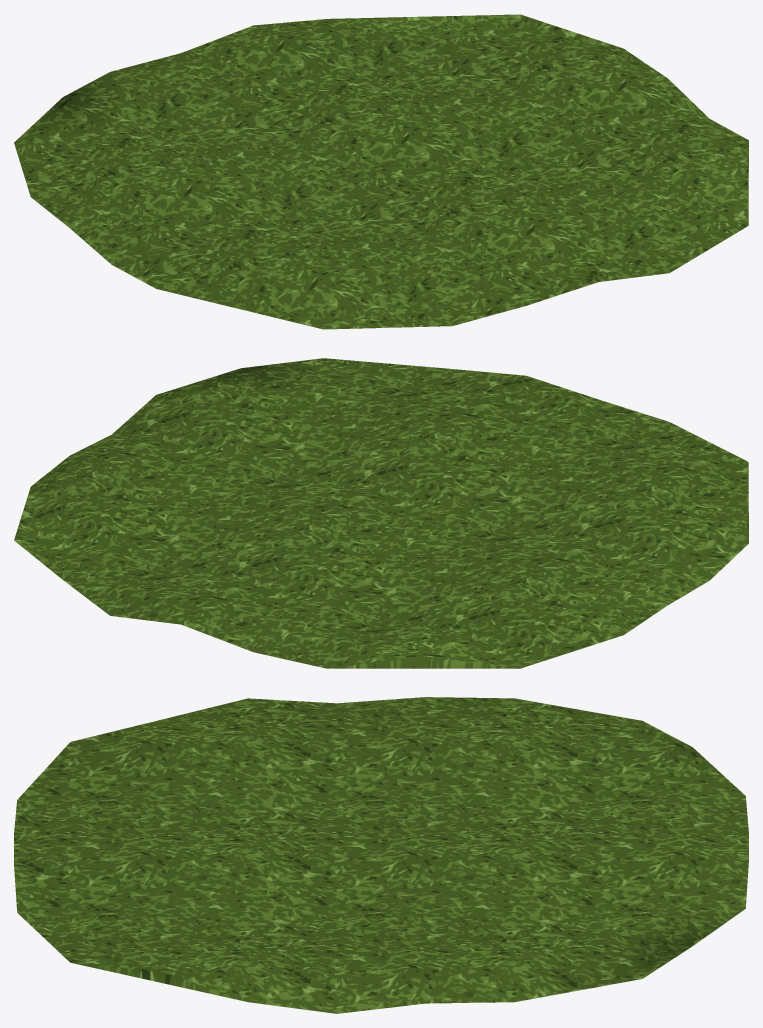
Rendered from puddle 3x3.FBX.
The picture shows the model from 3 angles, top to bottom: view 1: azimuth 30°, elevation 25°; view 2: azimuth 150°, elevation 25°; view 3: azimuth 270°, elevation 25°; orthographic projection. The views are drawn at different scales.
Parts seen in each view (by area): view 1: block007; view 2: block007; view 3: block007.
Boxes of the visible parts, left/top/right/bottom form: block007: left=14, top=14, right=748, bottom=329; block007: left=14, top=358, right=748, bottom=668; block007: left=14, top=697, right=748, bottom=1013.
Size of the model in its own units: 276 by 9.55 by 276.
